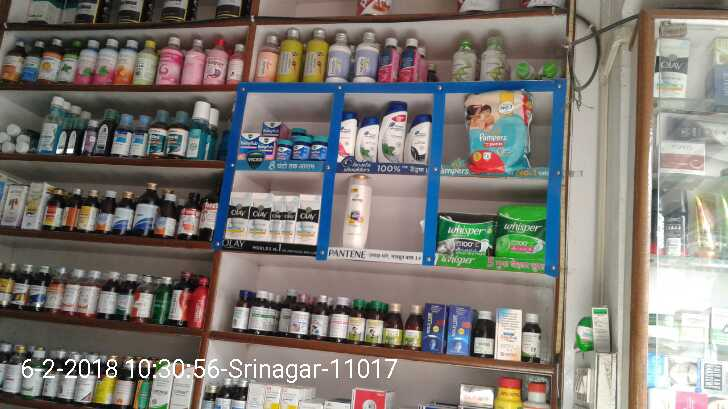beauty: (340, 181, 372, 245), (380, 100, 407, 161), (355, 115, 377, 163), (407, 117, 429, 163), (300, 192, 319, 245), (250, 196, 270, 242), (228, 193, 247, 237), (339, 112, 355, 161), (284, 197, 299, 244), (268, 195, 282, 241)
pharmacy: (465, 93, 529, 171), (438, 209, 494, 256), (500, 205, 546, 257), (259, 117, 282, 138), (240, 131, 258, 152), (294, 138, 311, 159), (313, 137, 327, 160), (258, 138, 273, 157), (277, 141, 292, 159)
